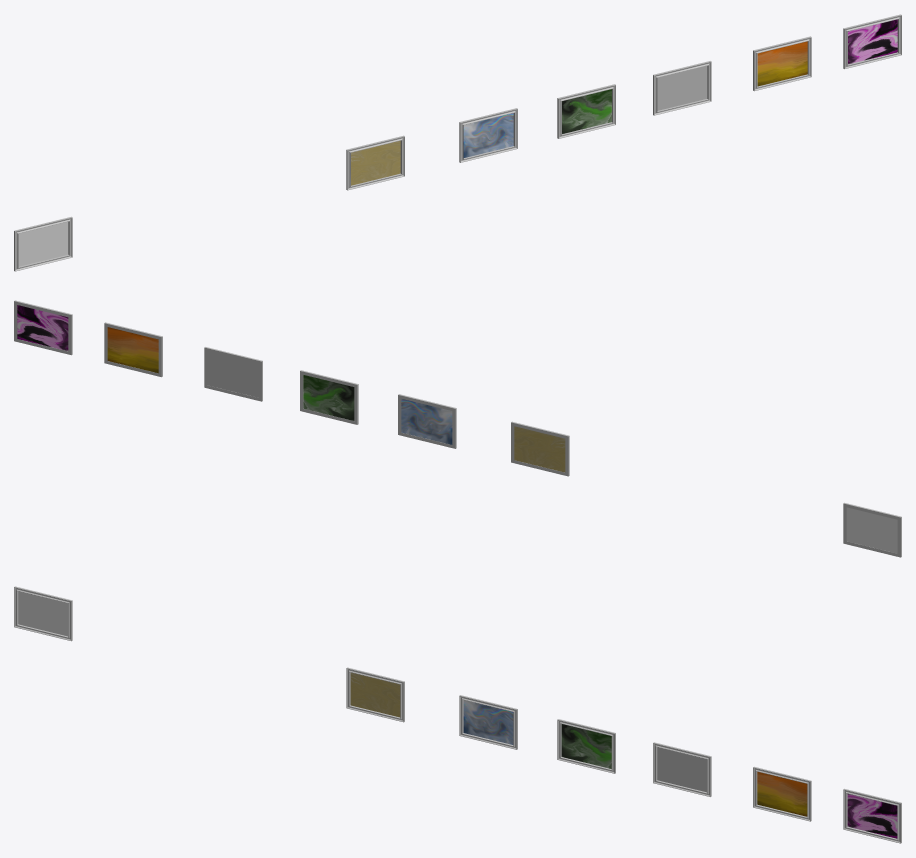
Rendered from tablolar.fbx.
The picture shows the model from 3 angles, top to bottom: view 1: azimuth 30°, elevation 25°; view 2: azimuth 150°, elevation 25°; view 3: azimuth 330°, elevation 25°; orthographic projection.
Visible parts, largest first — view 1: 44, 22, 55, orjin 1, 11, 33, 66, 4, 2, 5, 1, orjin 2 (+2 smaller); view 2: orjin 1, 11, 33, 44, 22, 55, 66, 4, 2, 5, 1, 6 (+2 smaller); view 3: 22, 55, 33, 66, 11, 44, orjin 1, 4, 2, 5, 6, 1 (+2 smaller).
Part boxes in pixels (x1,y1,x2,y2): 44: [657, 66, 707, 110]; 22: [463, 113, 513, 157]; 55: [757, 41, 807, 86]; orjin 1: [18, 222, 68, 266]; 11: [351, 140, 400, 185]; 33: [562, 89, 611, 133]; 66: [848, 19, 897, 64]; 4: [653, 61, 711, 115]; 2: [459, 108, 517, 162]; 5: [753, 36, 811, 91]; 1: [346, 135, 404, 190]; orjin 2: [14, 216, 72, 271]; orjin 1: [846, 507, 897, 553]; 11: [514, 426, 565, 472]; 33: [303, 375, 354, 420]; 44: [207, 351, 258, 397]; 22: [401, 398, 452, 444]; 55: [107, 327, 158, 373]; 66: [17, 305, 68, 350]; 4: [204, 347, 262, 401]; 2: [398, 394, 456, 448]; 5: [104, 322, 162, 377]; 1: [511, 421, 569, 476]; 6: [14, 300, 72, 355]; 22: [463, 700, 513, 744]; 55: [757, 771, 807, 816]; 33: [561, 724, 611, 768]; 66: [847, 794, 897, 838]; 11: [350, 672, 400, 717]; 44: [657, 747, 706, 792]; orjin 1: [18, 591, 67, 636]; 4: [653, 742, 711, 796]; 2: [459, 695, 517, 749]; 5: [753, 766, 811, 821]; 6: [843, 788, 901, 843]; 1: [346, 667, 404, 722].
Size of the model in its own units: 1196 by 51.71 by 2.88.
